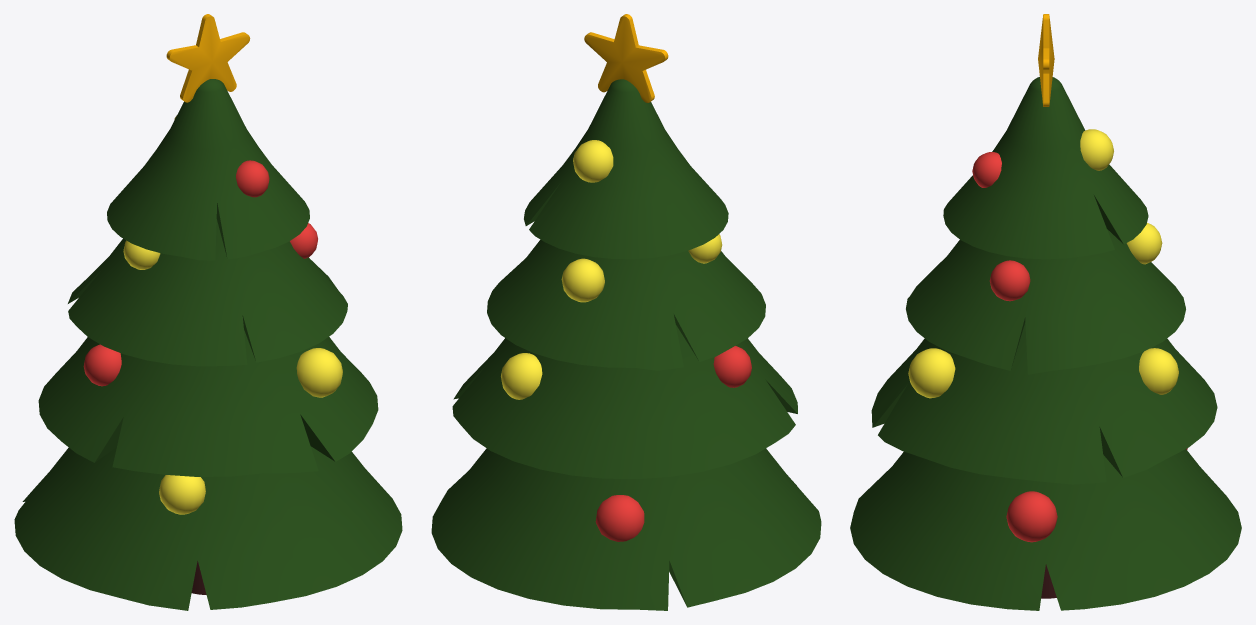
The model's file is christmas_tree.glb.
3 views of the same model, side by side, from view 1: azimuth 30°, elevation 25°; view 2: azimuth 150°, elevation 25°; view 3: azimuth 270°, elevation 25° (orthographic).
Visible parts, largest first — view 1: Circle.2143; view 2: Circle.2143; view 3: Circle.2143.
Boxes of the visible parts, x1,y1,x2,y2 form: Circle.2143: [14, 14, 402, 610]; Circle.2143: [431, 14, 821, 610]; Circle.2143: [850, 14, 1241, 610].
Bounding box in the file's own units: 1.46 × 2.33 × 1.45.
1 material, 1 textured.
